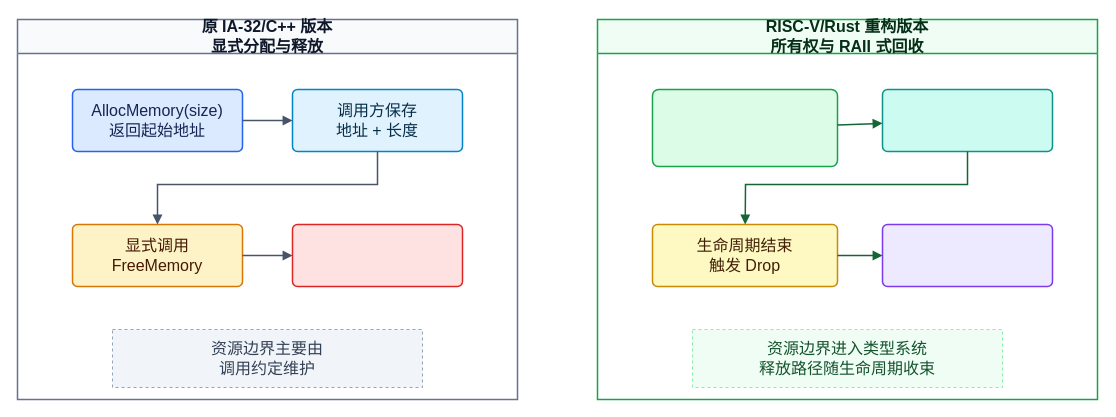
Some shapes in this 1116 by 417 pixel diagram are drawn without their labels. The shapes that lost their labels are listed below. From the top down, each one's centre as x and y in pixels, then its label:
At point 744,127: "KernelPages::alloc(order) 返回拥有者对象".
At point 967,120: "对象持有 PhysPage 句柄".
At point 377,255: "Allocator 更新 MapNode 空闲块表".
At point 967,255: "Buddy 分配器 回收页帧".
